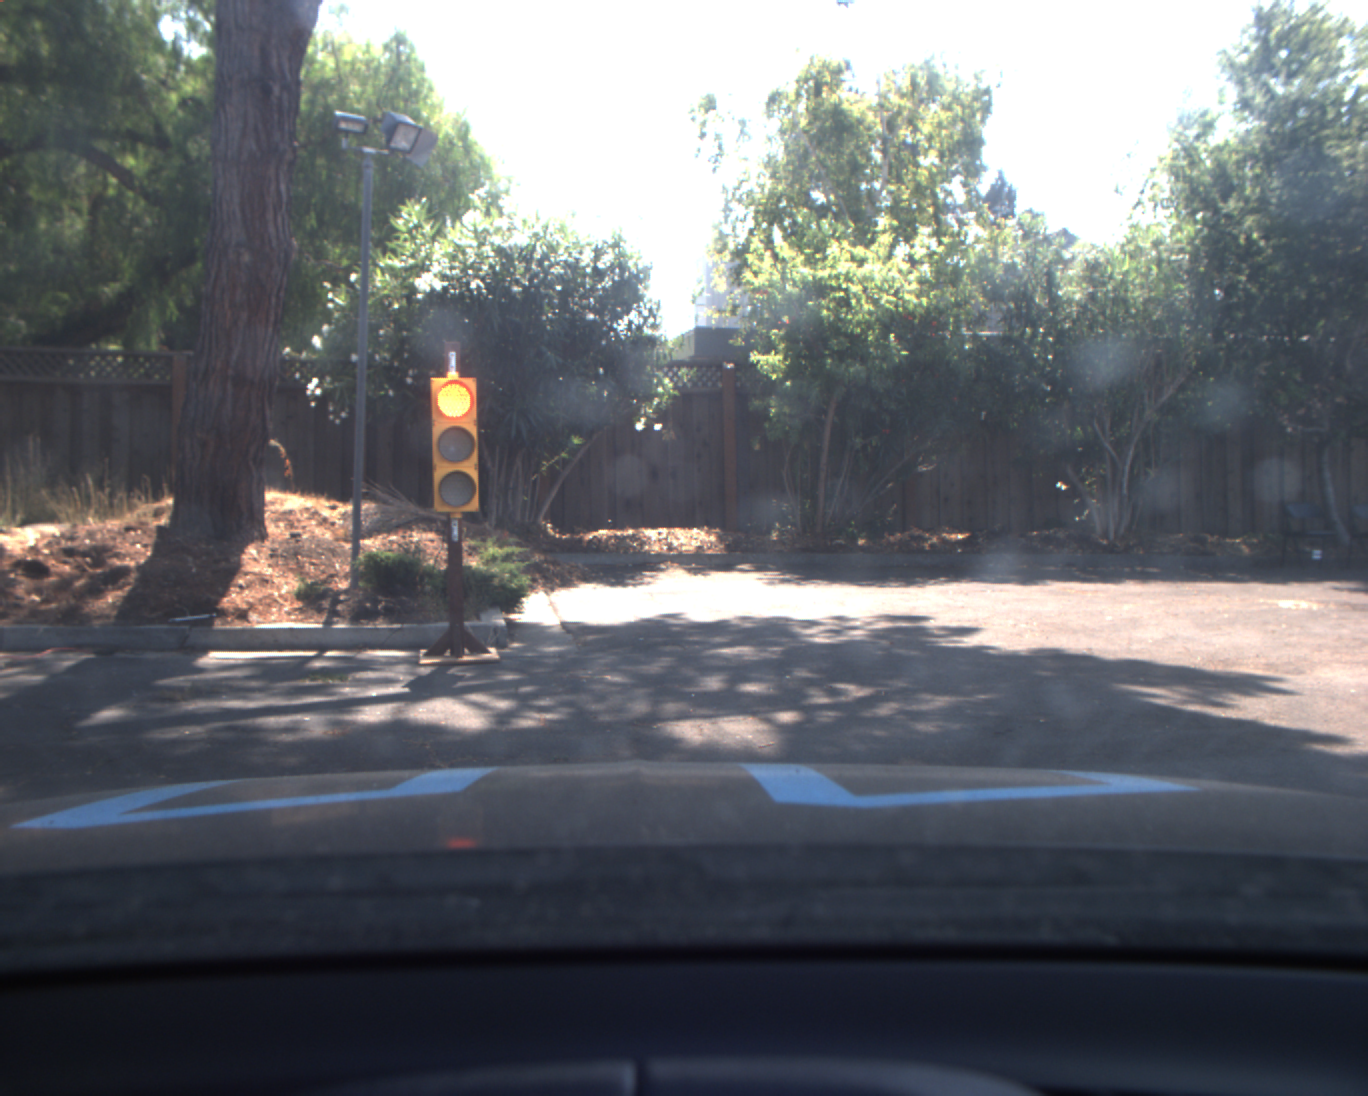red: (428, 368, 481, 521)
